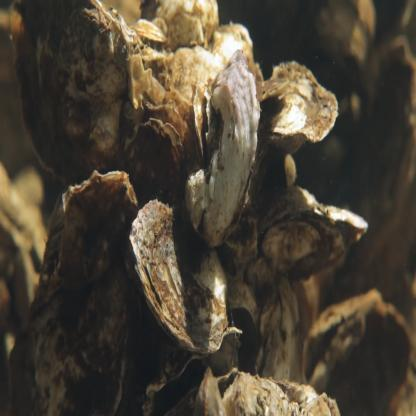3: (303, 291, 416, 416), (202, 370, 343, 416), (124, 107, 189, 203), (144, 358, 207, 416), (194, 73, 214, 160)
Oyster-Closed: (15, 170, 139, 410), (11, 0, 130, 181), (131, 200, 232, 354), (185, 51, 263, 243), (256, 186, 371, 288)
Oyster-Open: (260, 61, 341, 150), (156, 0, 221, 50)
